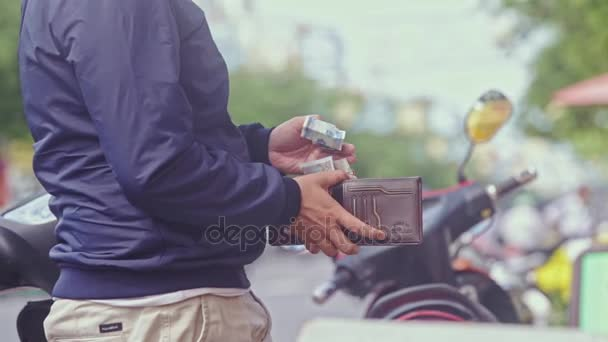banknotes: (299, 116, 344, 150)
